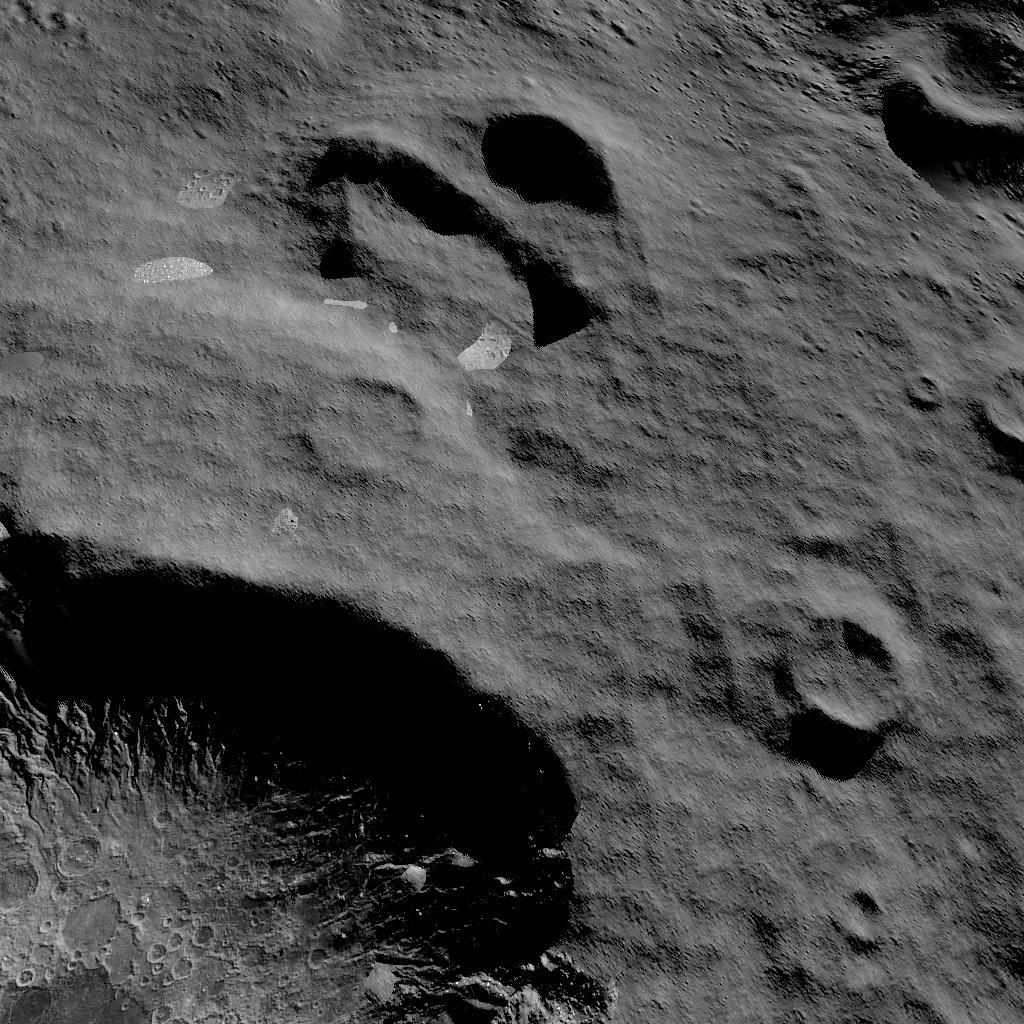Crater: (0, 526, 602, 1021), (306, 68, 680, 345), (863, 4, 1024, 196), (770, 598, 928, 778), (302, 363, 438, 492), (959, 356, 1024, 465)
Plan surface: (0, 0, 290, 495), (615, 358, 916, 561)
